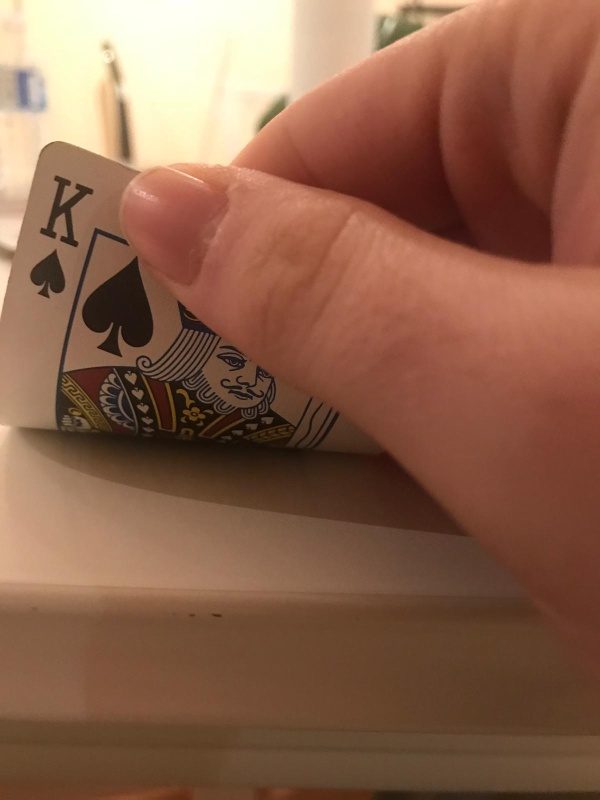Sk: (23, 171, 98, 302)
